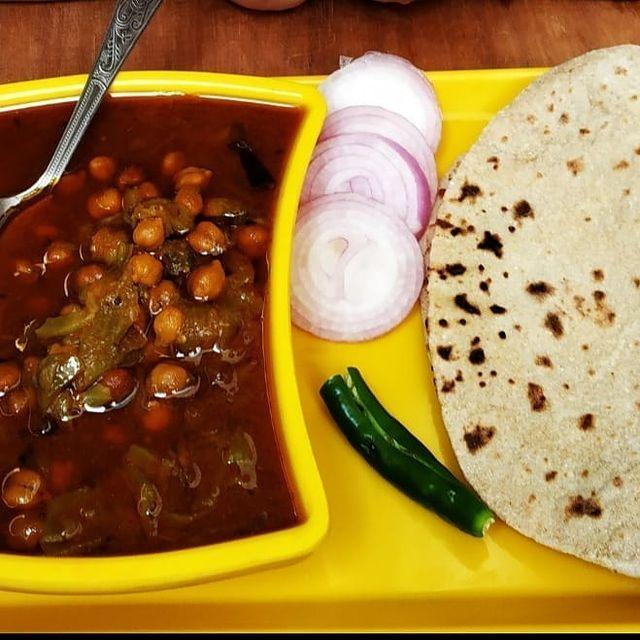Chole: (57, 160, 270, 343)
